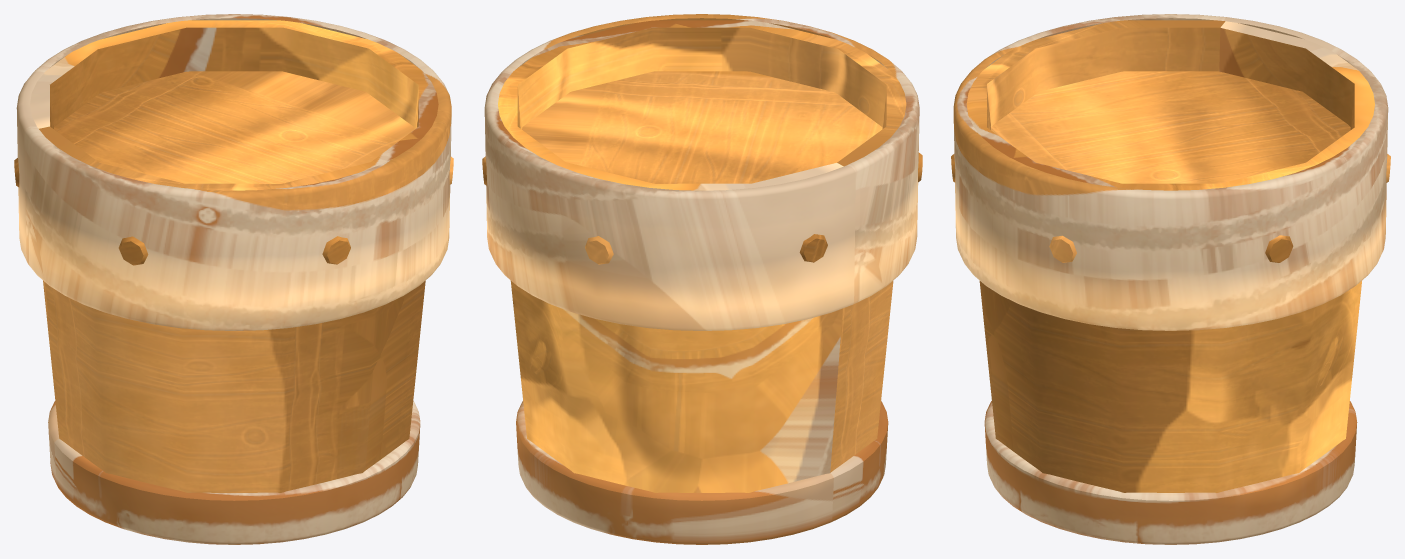
File: SM_vase.fbx
3 renders of one model, left to right at view 1: azimuth 30°, elevation 25°; view 2: azimuth 150°, elevation 25°; view 3: azimuth 270°, elevation 25°, orthographic.
Visible parts, largest first — view 1: SM_vase_LOD0; view 2: SM_vase_LOD0; view 3: SM_vase_LOD0.
Boxes of the visible parts, box(x1,y1,x2,y2) form: SM_vase_LOD0: box(14, 14, 453, 544); SM_vase_LOD0: box(482, 14, 922, 544); SM_vase_LOD0: box(951, 14, 1390, 544).
Size of the model in its own units: 27.29 by 27.62 by 25.33.
